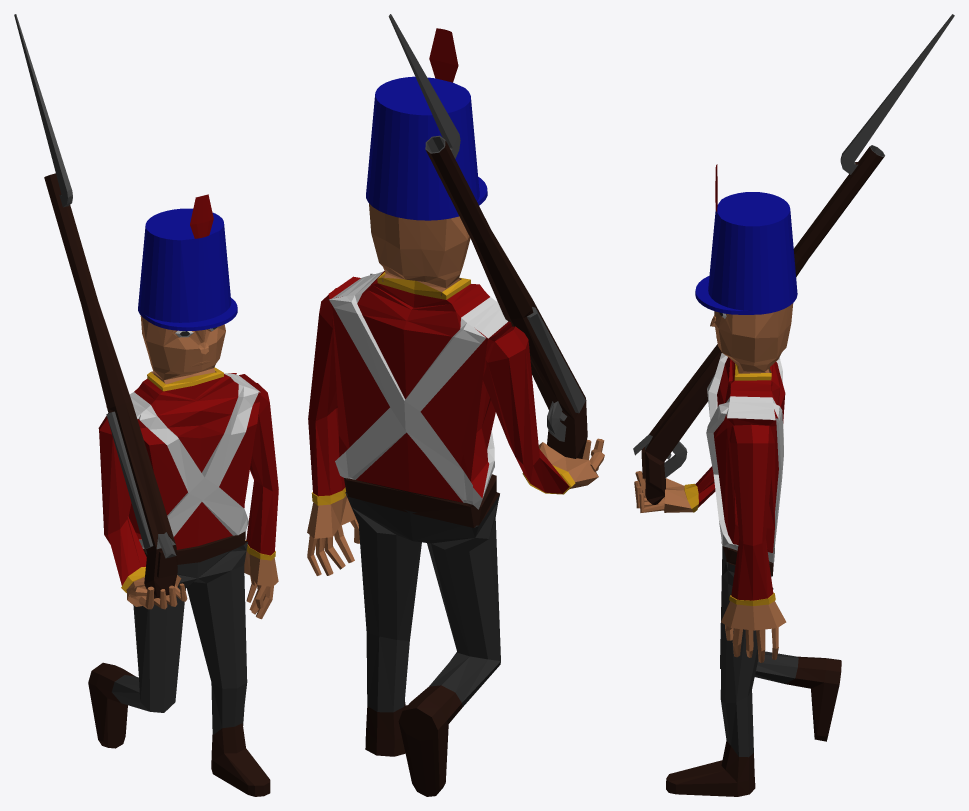
Rendered from Infantry_000151.obj.
3 renders of one model, left to right at view 1: azimuth 30°, elevation 25°; view 2: azimuth 150°, elevation 25°; view 3: azimuth 270°, elevation 25°, orthographic. The views are drawn at different scales.
Parts seen in each view (by area): view 1: {Man}_Circle, {Mesket}_Cube.001; view 2: {Man}_Circle, {Mesket}_Cube.001; view 3: {Man}_Circle, {Mesket}_Cube.001.
Part boxes in pixels (<box>): {Man}_Circle: <box>88,194,278,796</box>; {Mesket}_Cube.001: <box>14,14,177,598</box>; {Man}_Circle: <box>307,28,604,796</box>; {Mesket}_Cube.001: <box>388,14,587,458</box>; {Man}_Circle: <box>634,164,841,796</box>; {Mesket}_Cube.001: <box>633,14,954,504</box>.
Bounding box in the file's own units: 5.63 × 19.62 × 7.93.
